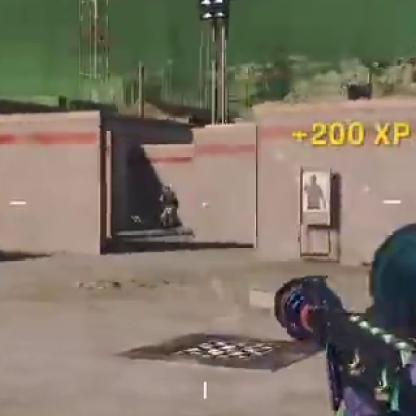enemy: (156, 184, 185, 232)
